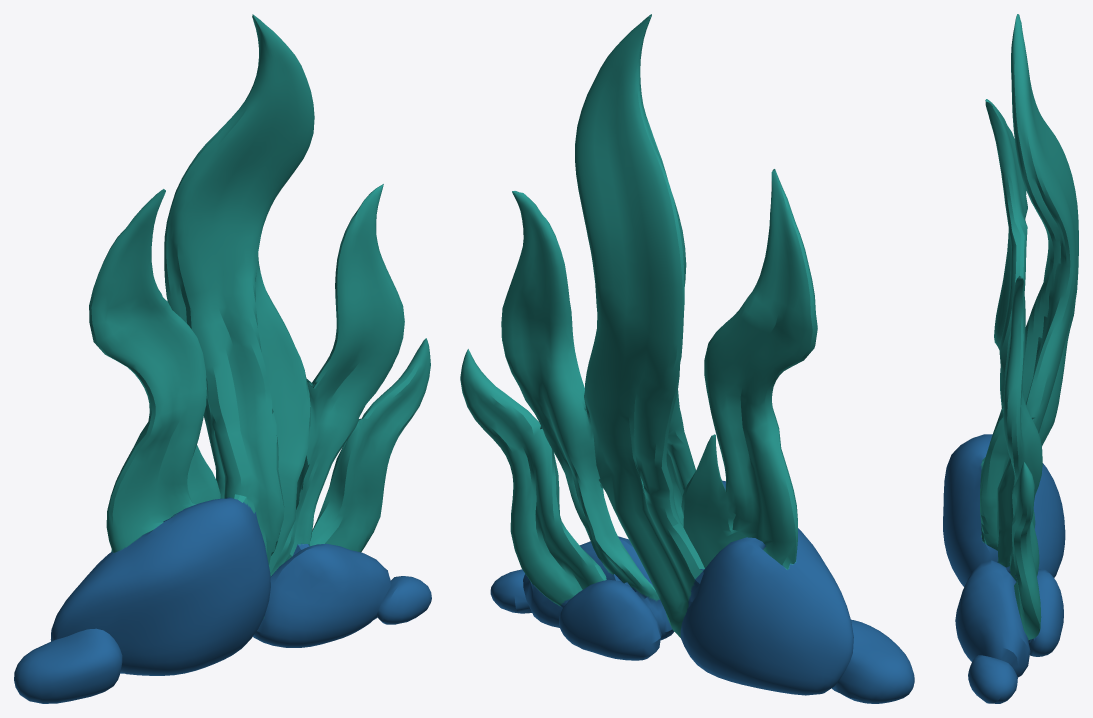
File: Kelpfbx.fbx
3 renders of one model, left to right at view 1: azimuth 30°, elevation 25°; view 2: azimuth 150°, elevation 25°; view 3: azimuth 270°, elevation 25°, orthographic. The views are drawn at different scales.
Visible parts, largest first — view 1: Mesh0.001; view 2: Mesh0.001; view 3: Mesh0.001.
Part boxes in pixels (x1,y1,x2,y2): Mesh0.001: (14, 14, 431, 703); Mesh0.001: (460, 14, 914, 703); Mesh0.001: (943, 14, 1078, 703).
Bounding box in the file's own units: 142 × 199 × 39.74.
